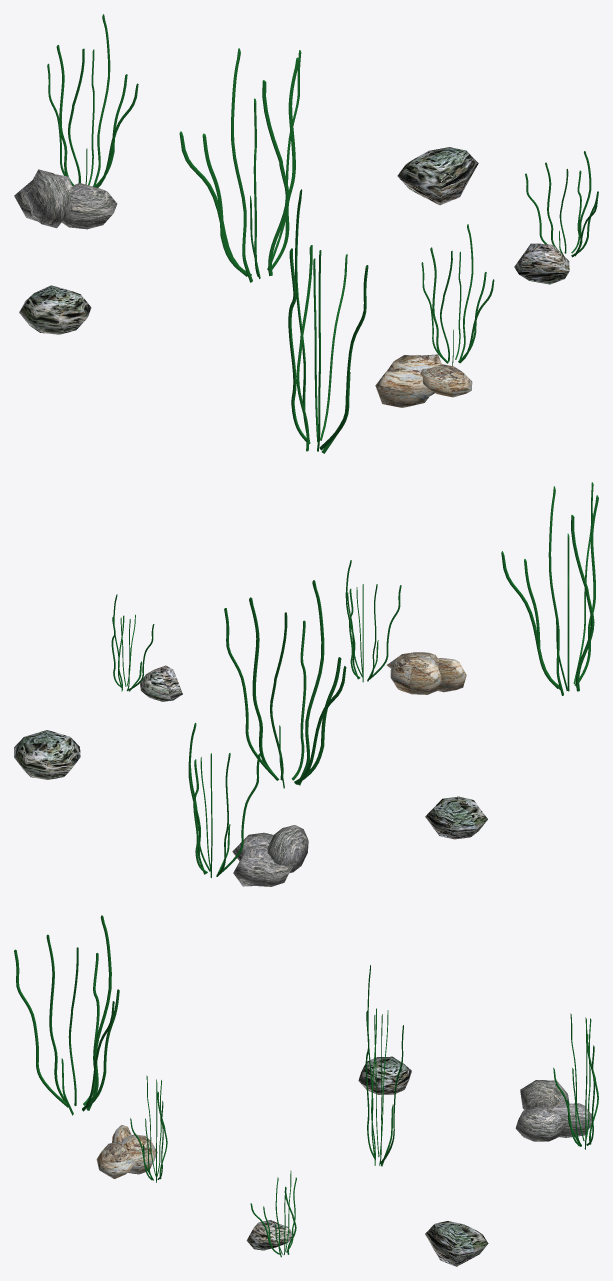
The model's file is vodorosli.FBX.
The picture shows the model from 3 angles, top to bottom: view 1: azimuth 30°, elevation 25°; view 2: azimuth 150°, elevation 25°; view 3: azimuth 270°, elevation 25°; orthographic projection. The views are drawn at different scales.
Visible parts, largest first — view 1: Line005, Line009, Sphere005, Line006, Sphere004, Sphere003, Line008, Sphere001, Sphere009, Sphere007, Line007, Sphere008 (+1 smaller); view 2: Line005, Line009, Sphere005, Line006, Sphere004, Sphere006, Sphere002, Sphere003, Line008, Sphere009, Line007, Sphere007; view 3: Line009, Sphere005, Line005, Sphere004, Line006, Sphere001, Sphere003, Line008, Sphere008, Sphere009, Sphere002, Line007 (+1 smaller).
Part boxes in pixels (x1,y1,x2,y2): Line005: [179, 48, 301, 282]; Line009: [288, 189, 368, 453]; Sphere005: [397, 147, 478, 205]; Line006: [47, 14, 138, 187]; Sphere004: [19, 285, 91, 334]; Sphere003: [23, 169, 71, 228]; Line008: [421, 224, 494, 366]; Sphere001: [62, 183, 117, 229]; Sphere009: [514, 243, 569, 284]; Sphere007: [375, 368, 432, 407]; Line007: [525, 151, 598, 257]; Sphere008: [420, 364, 472, 397]; Line005: [224, 580, 346, 788]; Line009: [501, 482, 598, 695]; Sphere005: [14, 730, 80, 779]; Line006: [188, 723, 260, 877]; Sphere004: [425, 796, 487, 839]; Sphere006: [390, 655, 441, 694]; Sphere002: [233, 844, 292, 886]; Sphere003: [267, 825, 308, 873]; Line008: [345, 560, 401, 682]; Sphere009: [140, 665, 182, 701]; Line007: [111, 594, 154, 691]; Sphere007: [433, 658, 466, 692]; Line009: [14, 915, 119, 1115]; Sphere005: [425, 1221, 488, 1266]; Line005: [365, 965, 403, 1166]; Sphere004: [358, 1056, 411, 1094]; Line006: [553, 1013, 598, 1149]; Sphere001: [515, 1106, 563, 1141]; Sphere003: [520, 1080, 569, 1109]; Line008: [130, 1075, 167, 1182]; Sphere008: [96, 1141, 135, 1178]; Sphere009: [246, 1220, 294, 1250]; Sphere002: [547, 1103, 591, 1137]; Line007: [250, 1170, 296, 1257].
Bounding box in the file's own units: 65.49 × 32.35 × 84.53.
Materials: 4 (3 with a texture image).
